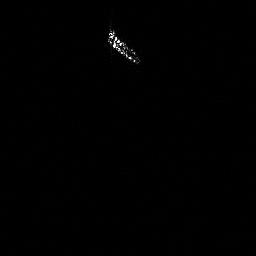ship: (103, 25, 143, 67)
